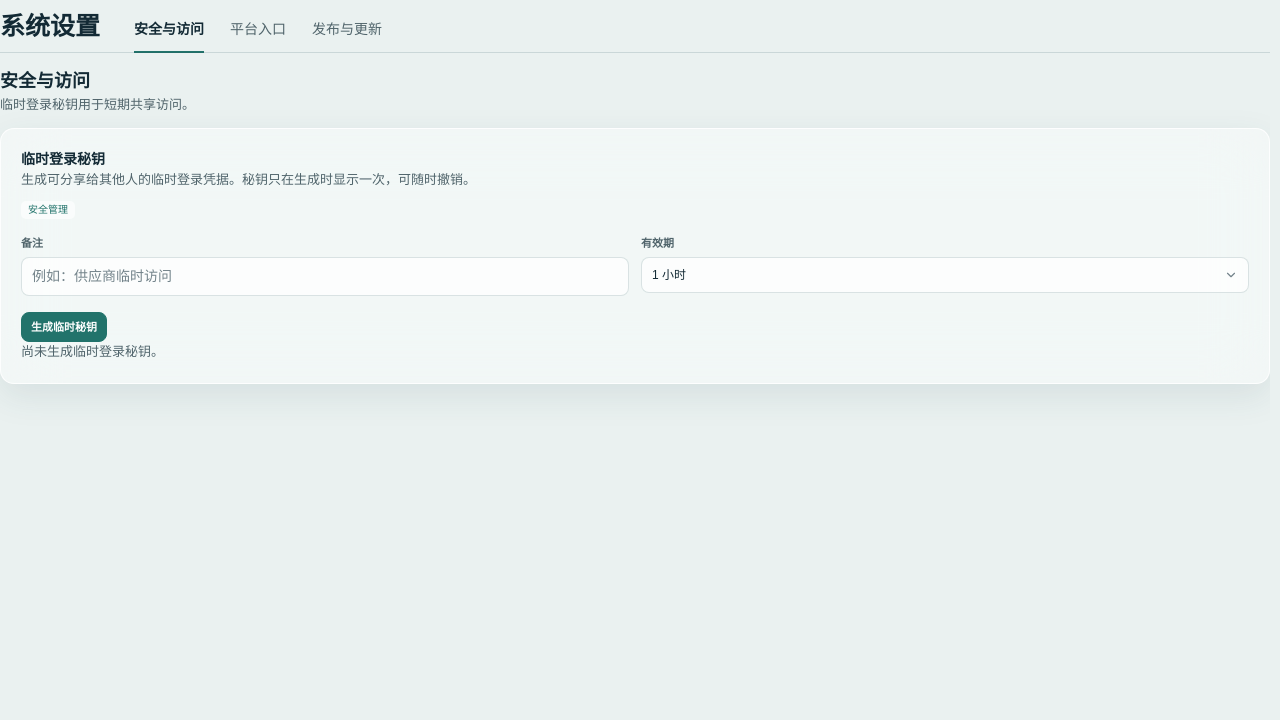
SystemSettings view › shows manual platform update errors in a dialog
Click the button with test id "system-settings-tab-release" at [347, 36], box [312,19,382,52]
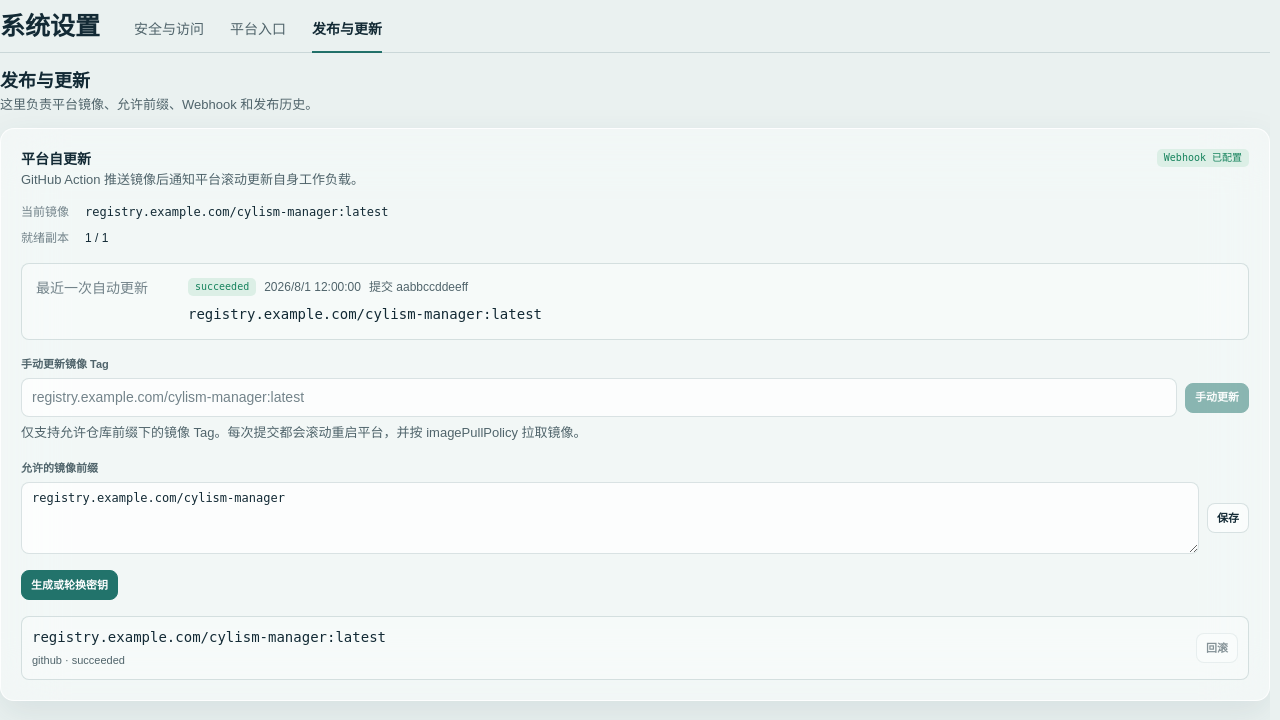
Type "oci-registry.crazycoding.top/cylism-manager:1.0.0" into the field with test id "platform-manual-image" at [599, 398], box [21,378,1177,417]
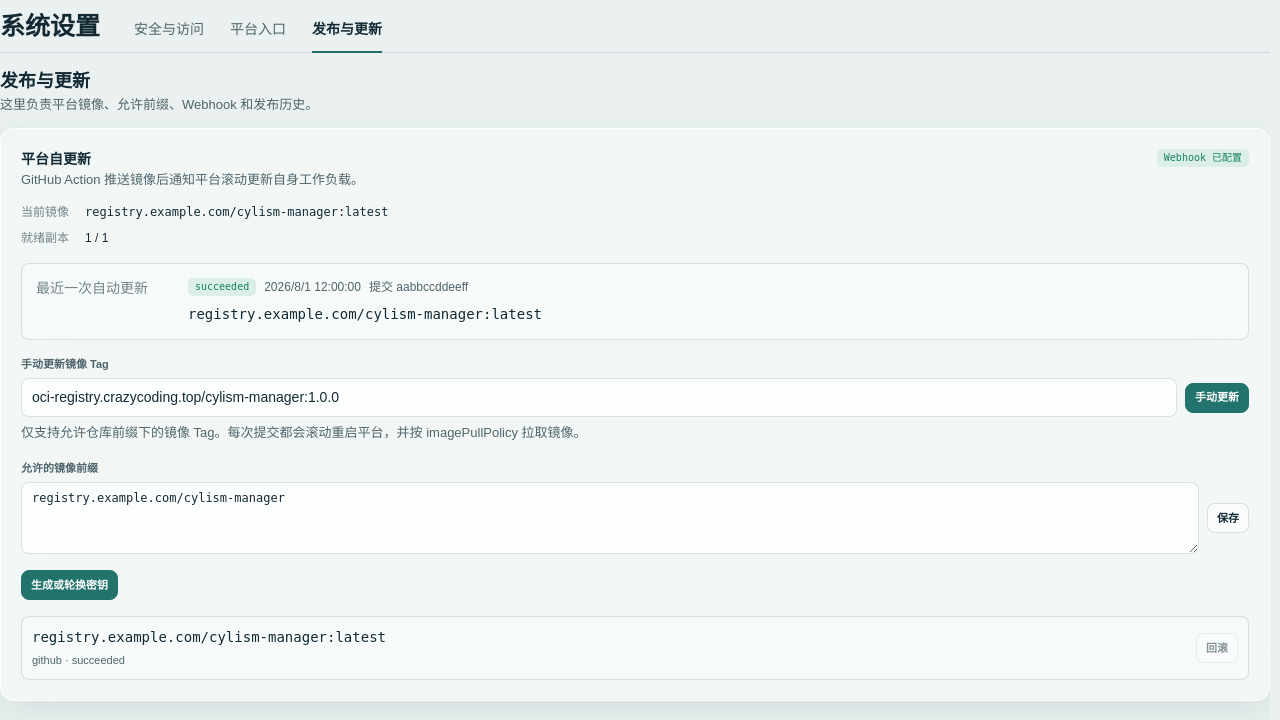
Click the button with test id "platform-manual-update" at [1217, 398], box [1185,383,1249,413]
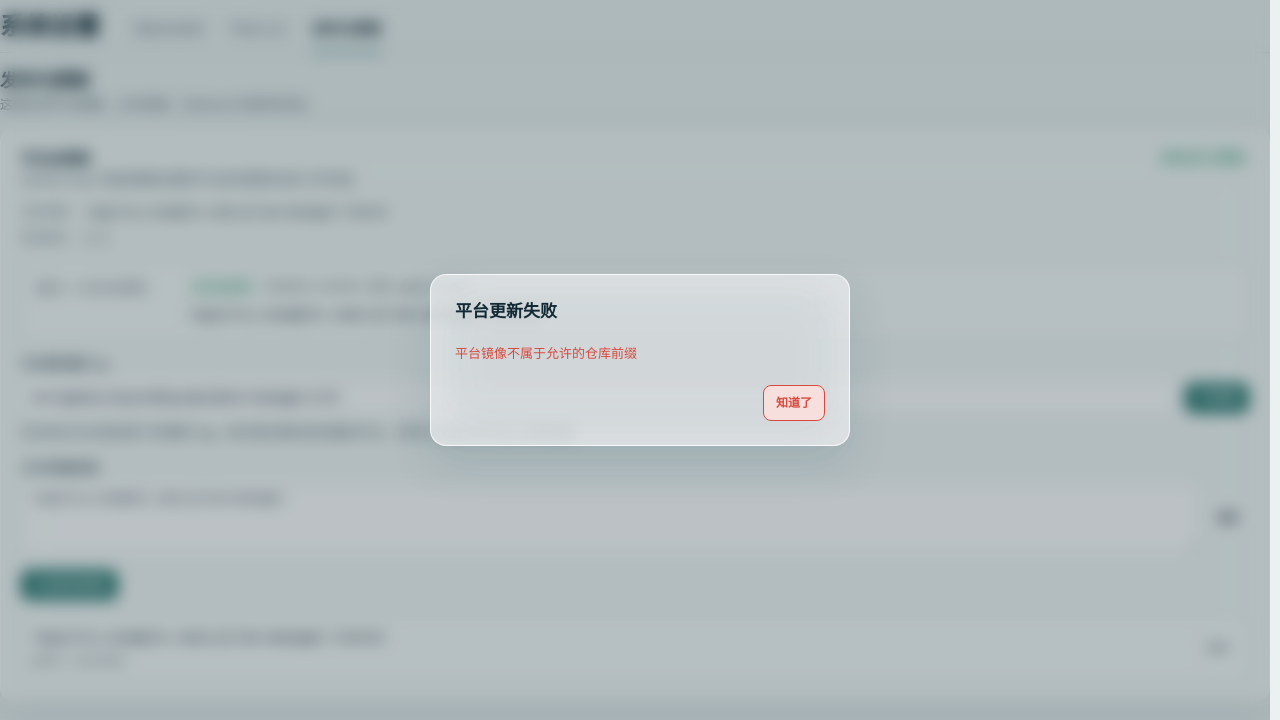
Result: the dialog is shown at [430,274,850,446]
Result: the dialog shows "平台更新失败" at [455,302,557,321]
Result: the dialog shows "平台镜像不属于允许的仓库前缀" at [455,346,637,361]
